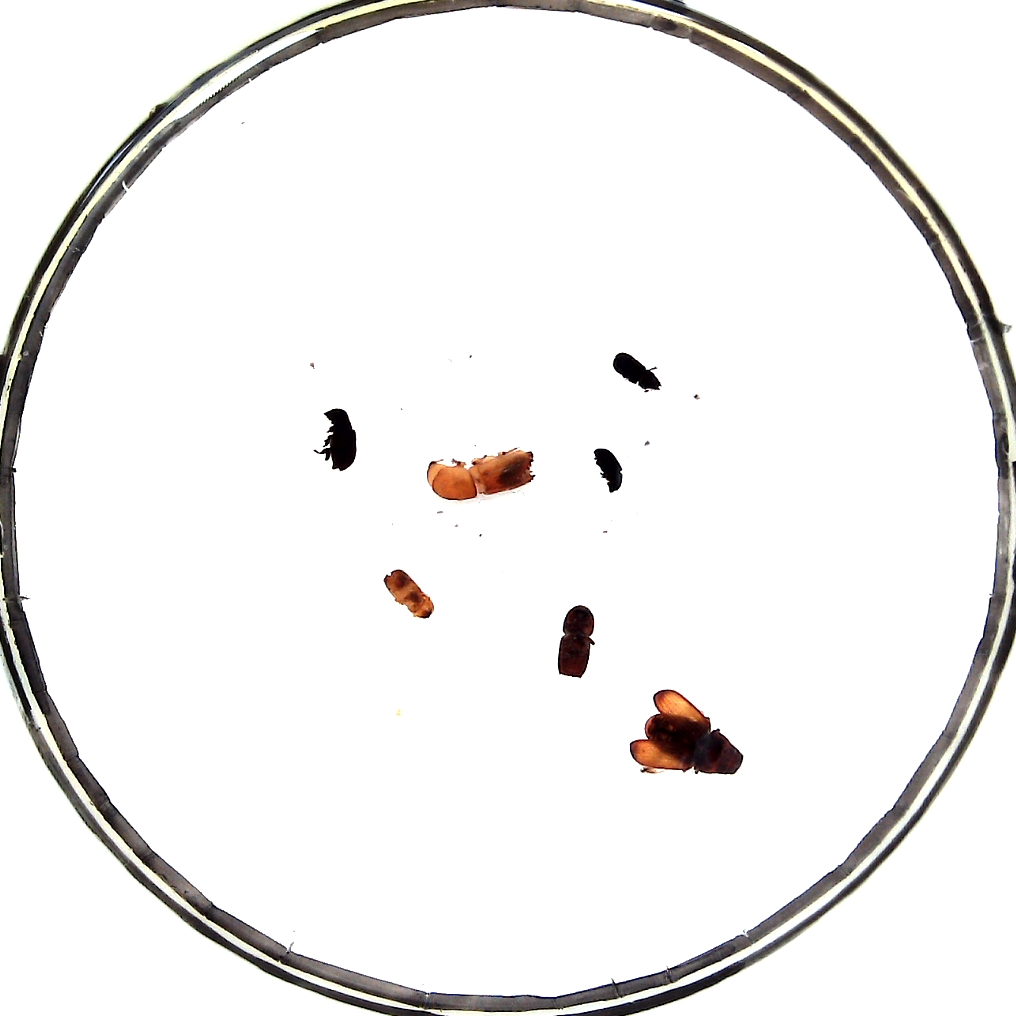Boerner: (422, 447, 539, 497)
Leconte: (634, 687, 742, 780)
Linnaeus: (558, 603, 597, 681)
acuminatus: (382, 568, 433, 620)
armandi: (321, 408, 361, 477)
coleoptera: (612, 351, 661, 394), (594, 445, 627, 494)
